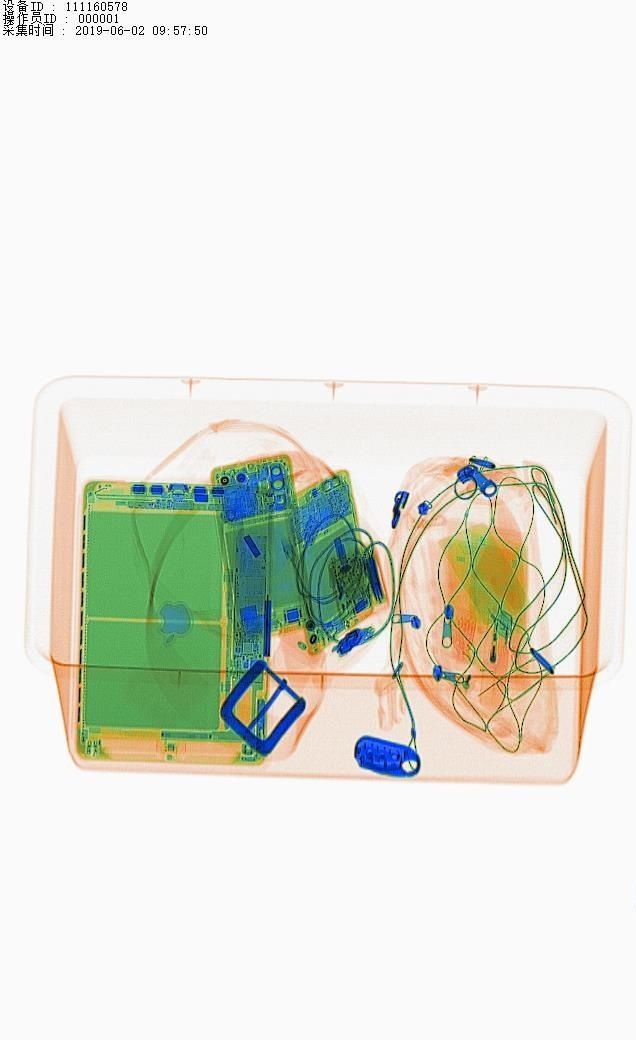NonmetallicFire: (481, 594, 523, 719)
